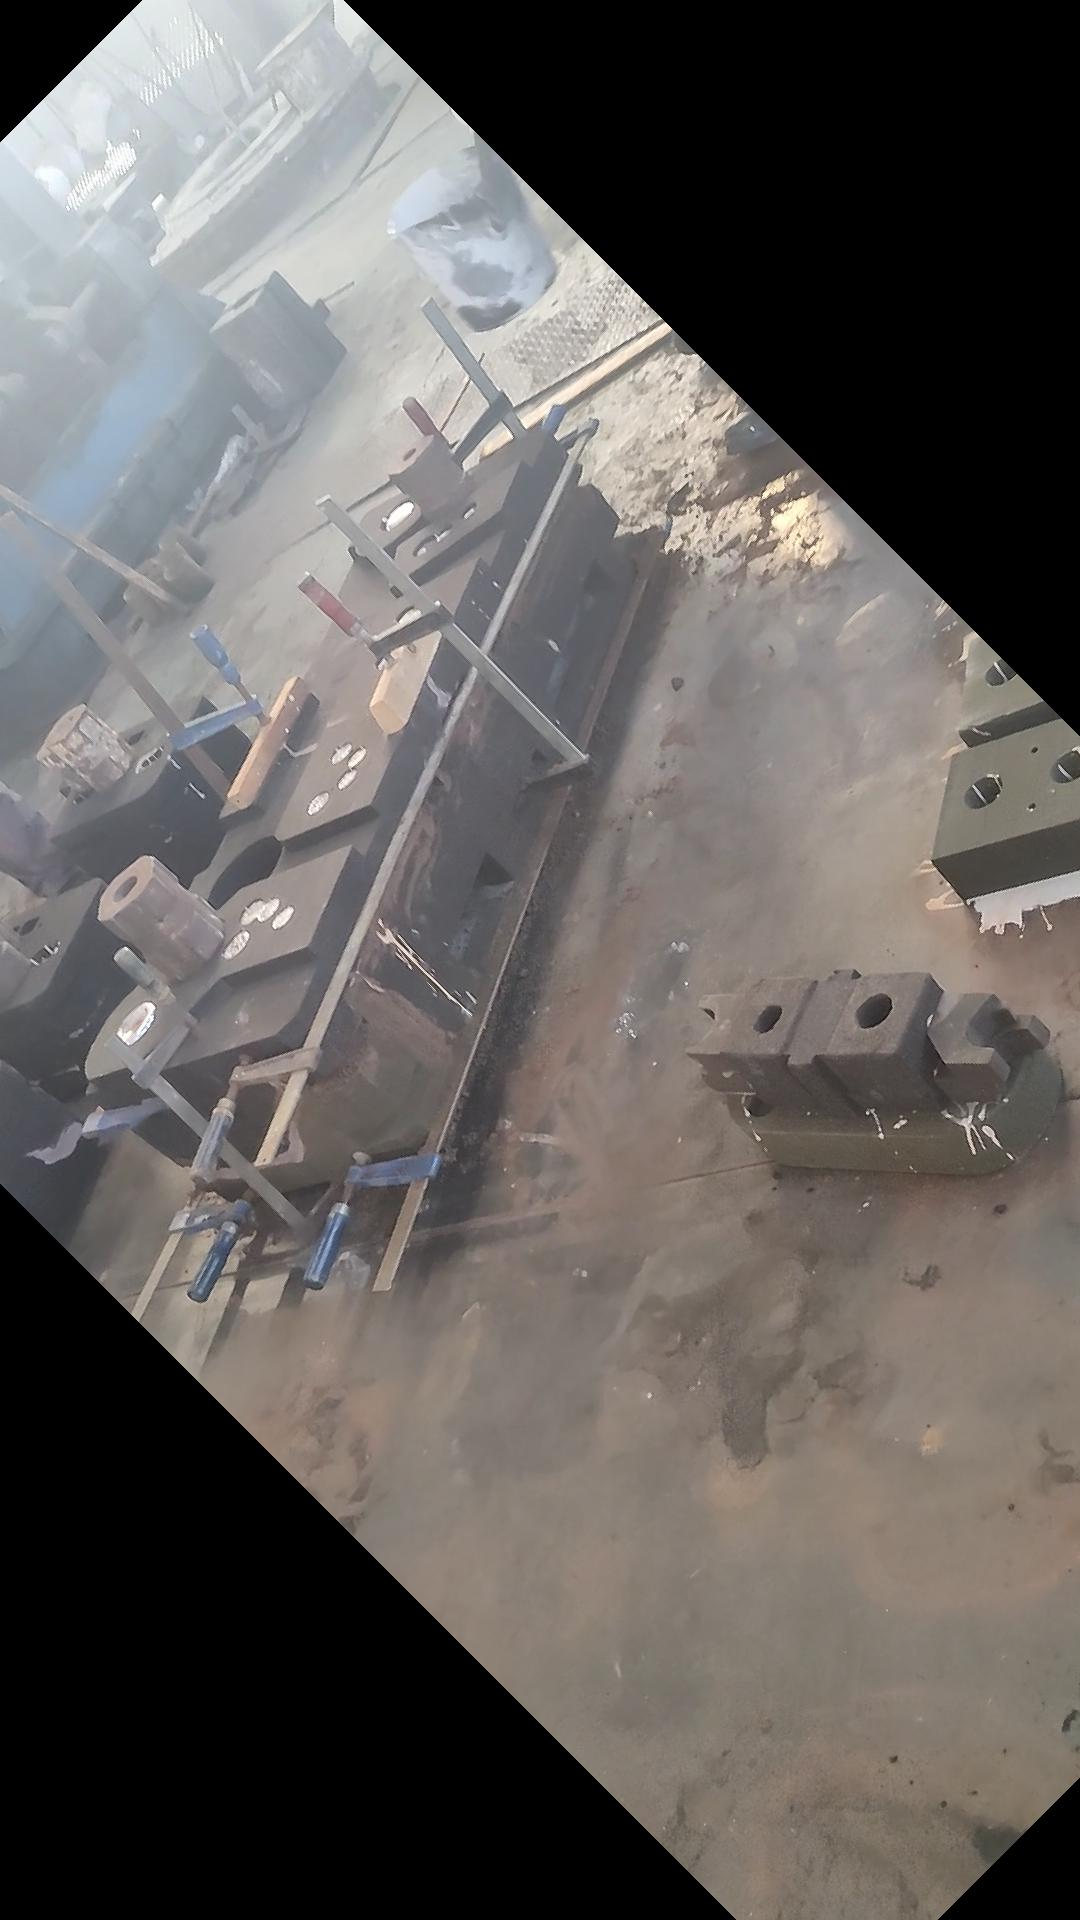pouring hole: (113, 1001, 156, 1040), (965, 774, 1001, 808), (984, 654, 1019, 687), (382, 497, 415, 531), (1051, 746, 1080, 783), (61, 733, 96, 760), (156, 524, 185, 551), (131, 559, 156, 580), (154, 543, 178, 564), (123, 580, 142, 600), (144, 567, 164, 585)
